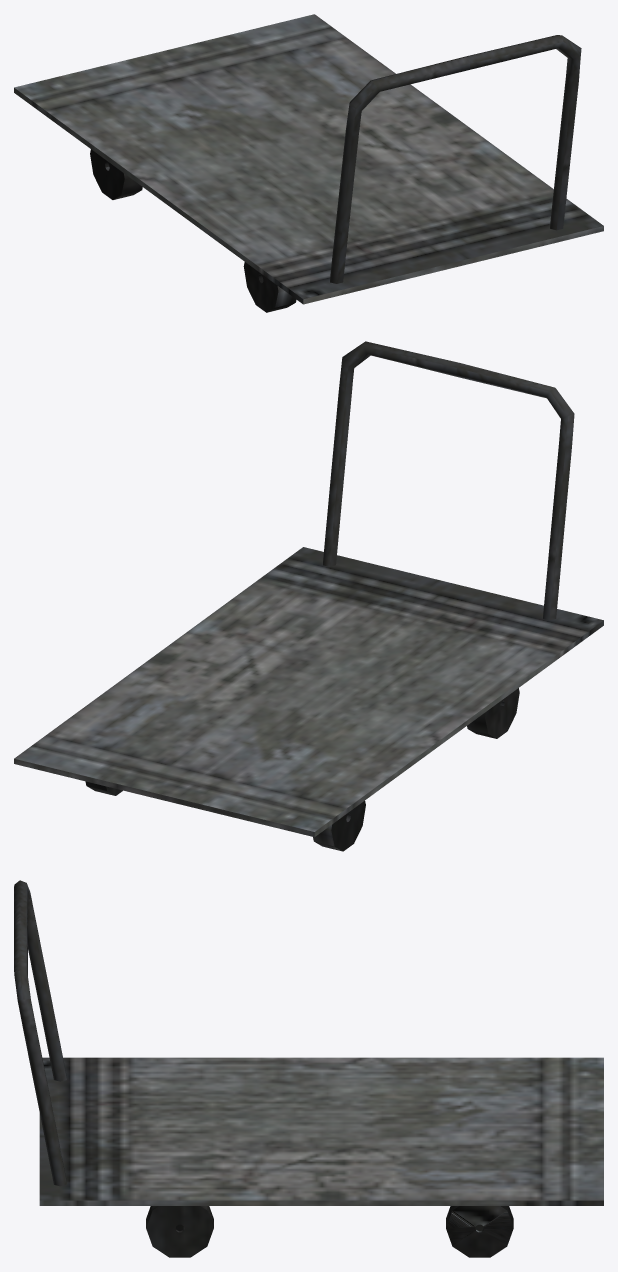
File: shoutuiche.FBX
3 views of the same model, one above another, from view 1: azimuth 30°, elevation 25°; view 2: azimuth 150°, elevation 25°; view 3: azimuth 270°, elevation 25° (orthographic). The views are drawn at different scales.
Parts seen in each view (by area): view 1: Box001; view 2: Box001; view 3: Box001.
Boxes of the visible parts, x1,y1,x2,y2 form: Box001: (14, 14, 603, 312); Box001: (14, 341, 603, 851); Box001: (14, 880, 603, 1257).
Bounding box in the file's own units: 150 × 134 × 261.
